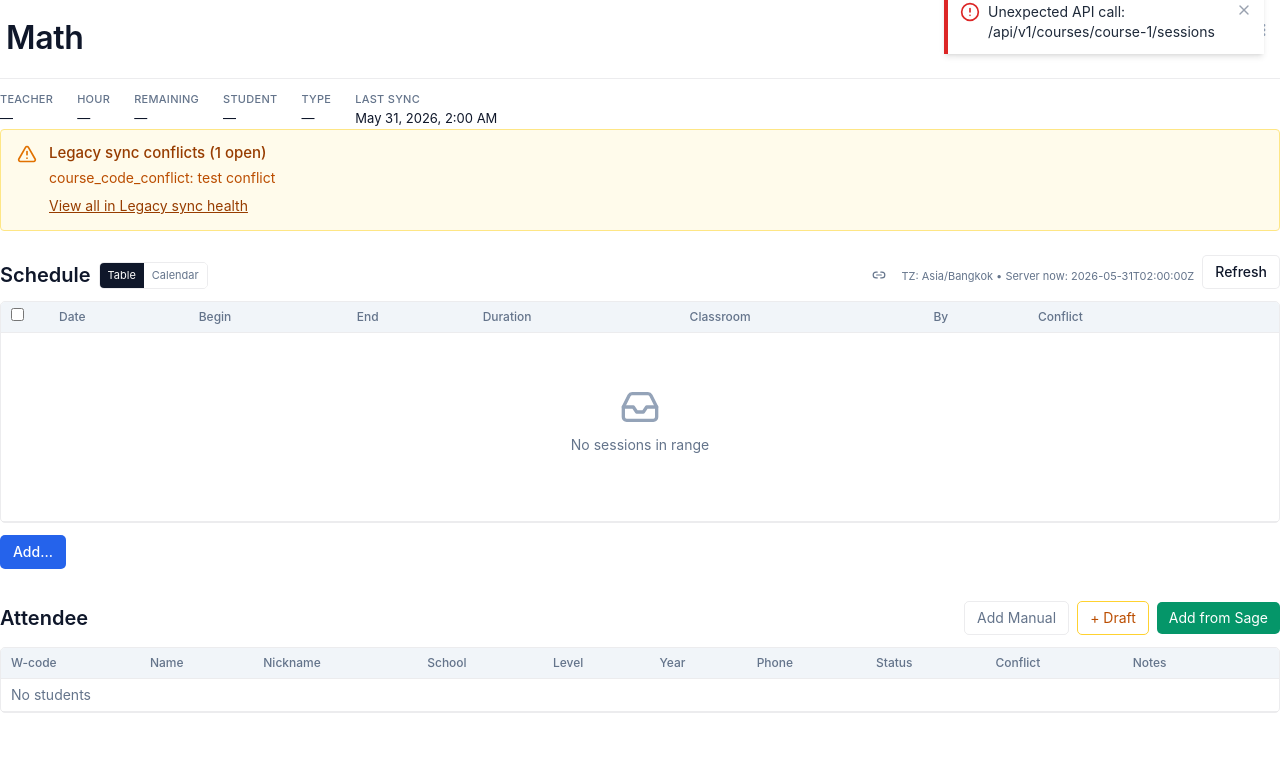
Test: Course detail legacy sync › shows the legacy link popover when the course has legacy_course_id
This screenshot has width=1280, height=774.
Click the button named "Legacy system link".
click(880, 274)  # box x1=866 y1=260 x2=894 y2=288
(page scrolled)
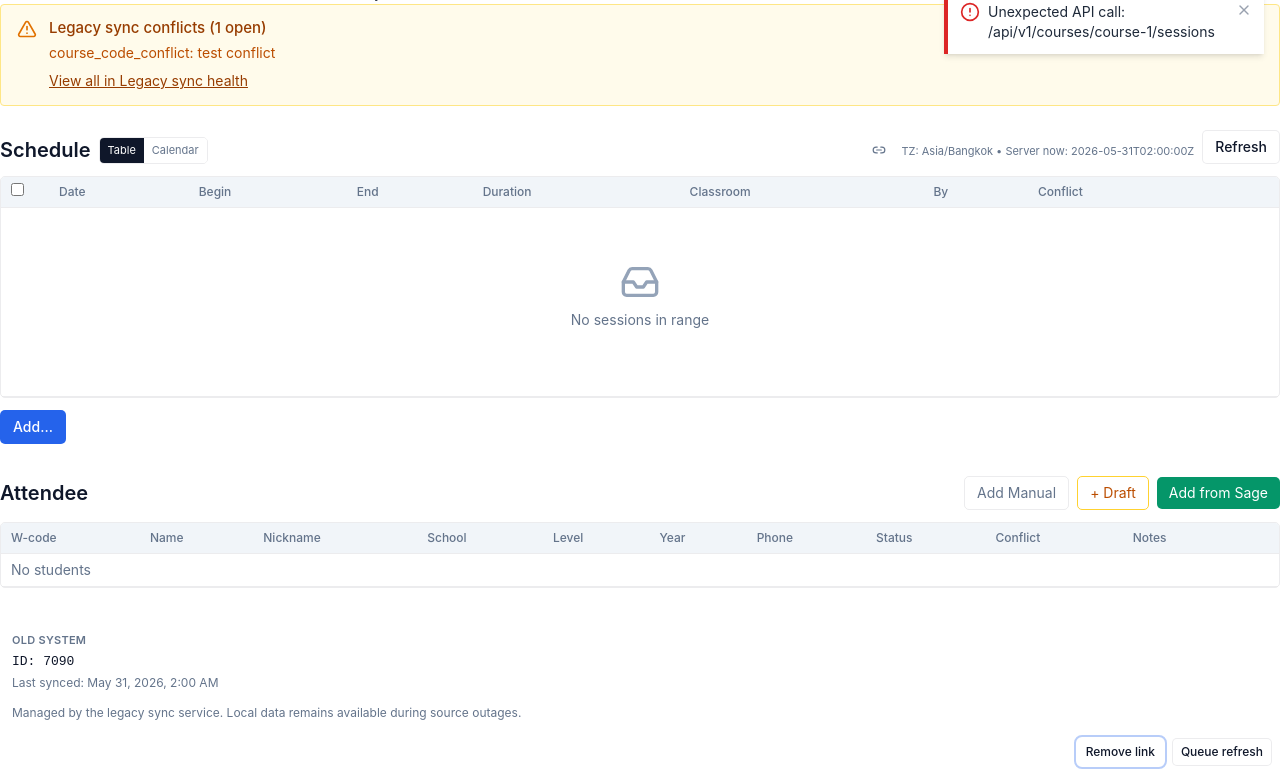
Expected: the text "Old System" is shown, x1=12 y1=632 x2=86 y2=646
Expected: the text "ID: 7090" is shown, x1=12 y1=654 x2=74 y2=669
Expected: the text "Managed by the legacy sync service" is shown, x1=12 y1=704 x2=521 y2=720
